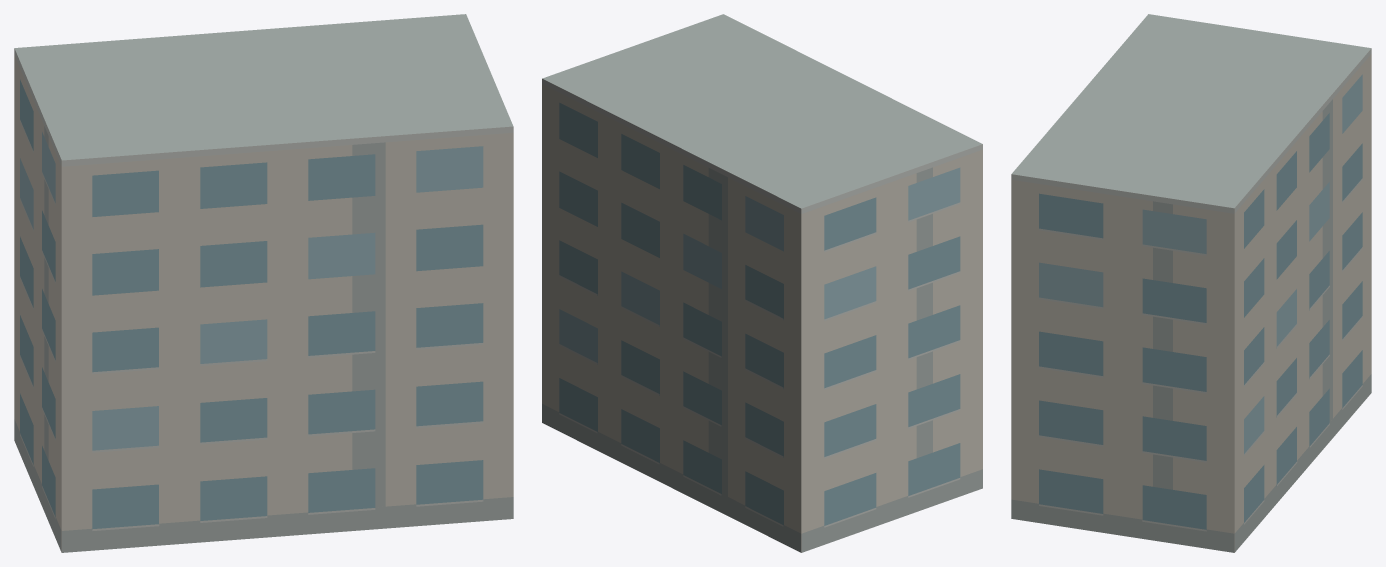
File: residential-535a5f68-9ff9-48f1-a139-41929ce39ae6.glb
3 views of the same model, side by side, from view 1: azimuth 30°, elevation 25°; view 2: azimuth 150°, elevation 25°; view 3: azimuth 270°, elevation 25° (orthographic). The views are drawn at different scales.
Visible parts, largest first — view 1: residential-535a5f68-9ff9-48f1-a139-41929ce39ae6.tmp; view 2: residential-535a5f68-9ff9-48f1-a139-41929ce39ae6.tmp; view 3: residential-535a5f68-9ff9-48f1-a139-41929ce39ae6.tmp.
Part boxes in pixels (x1,y1,x2,y2): residential-535a5f68-9ff9-48f1-a139-41929ce39ae6.tmp: [14, 14, 513, 552]; residential-535a5f68-9ff9-48f1-a139-41929ce39ae6.tmp: [542, 14, 982, 552]; residential-535a5f68-9ff9-48f1-a139-41929ce39ae6.tmp: [1011, 14, 1371, 552].
Bounding box in the file's own units: 18.45 × 15.25 × 14.46.
